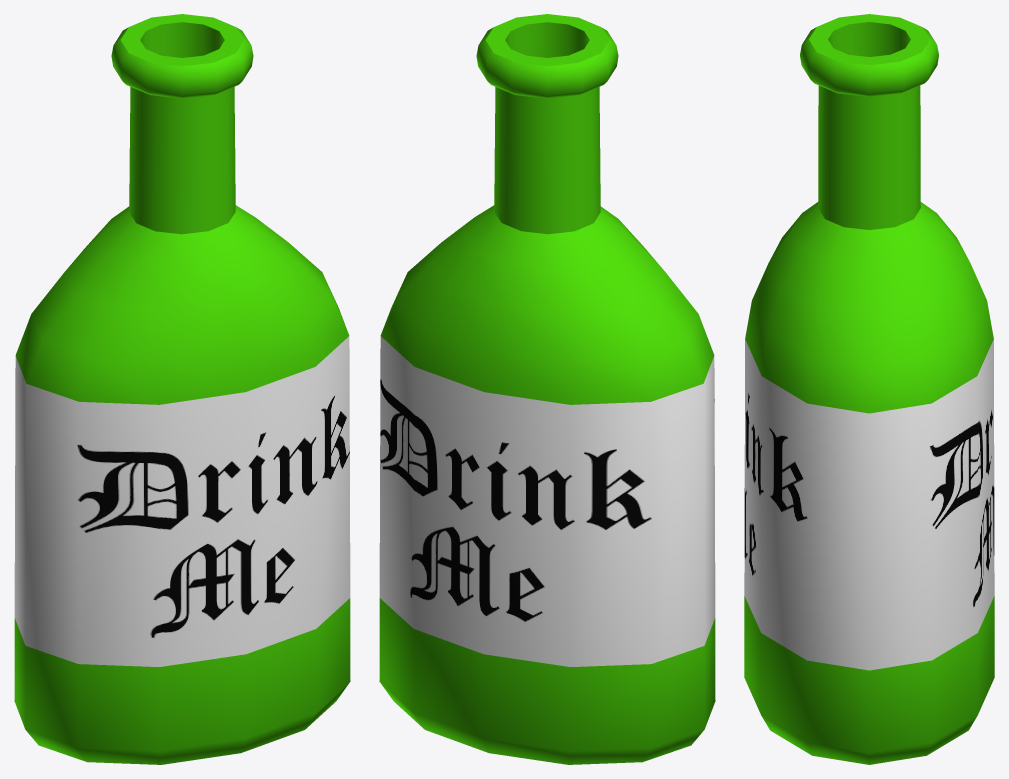
The model's file is Bottle.FBX.
3 renders of one model, left to right at view 1: azimuth 30°, elevation 25°; view 2: azimuth 150°, elevation 25°; view 3: azimuth 270°, elevation 25°, orthographic. The views are drawn at different scales.
Visible parts, largest first — view 1: Bottle; view 2: Bottle; view 3: Bottle.
Boxes of the visible parts, bbox=[...] form: Bottle: bbox=[14, 14, 350, 764]; Bottle: bbox=[379, 14, 715, 764]; Bottle: bbox=[744, 14, 994, 764].
Size of the model in its own units: 1.98 by 4.12 by 1.4.
3 materials, 1 textured.
